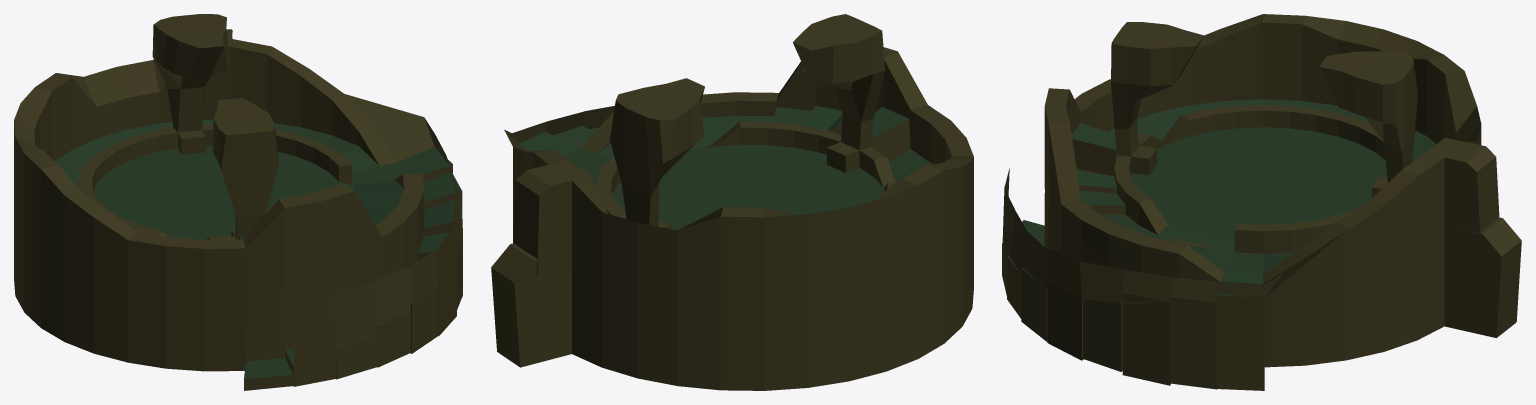
File: castle_ruin.fbx
The picture shows the model from 3 angles, left to right: view 1: azimuth 30°, elevation 25°; view 2: azimuth 150°, elevation 25°; view 3: azimuth 270°, elevation 25°; orthographic projection. The views are drawn at different scales.
Parts seen in each view (by area): view 1: Cylinder.001; view 2: Cylinder.001; view 3: Cylinder.001.
Boxes of the visible parts, x1=… form: Cylinder.001: x1=14, y1=14, x2=462, y2=390; Cylinder.001: x1=491, y1=14, x2=973, y2=390; Cylinder.001: x1=1002, y1=14, x2=1521, y2=390.
Size of the model in its own units: 4653 by 2469 by 4993.
